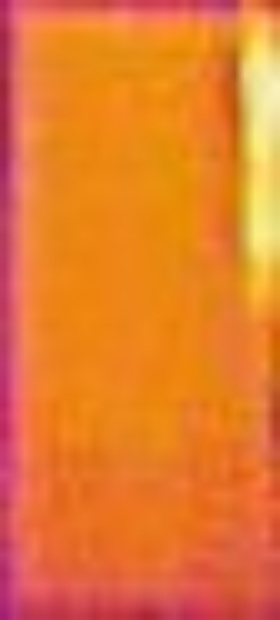Diode: (225, 1, 280, 335)
